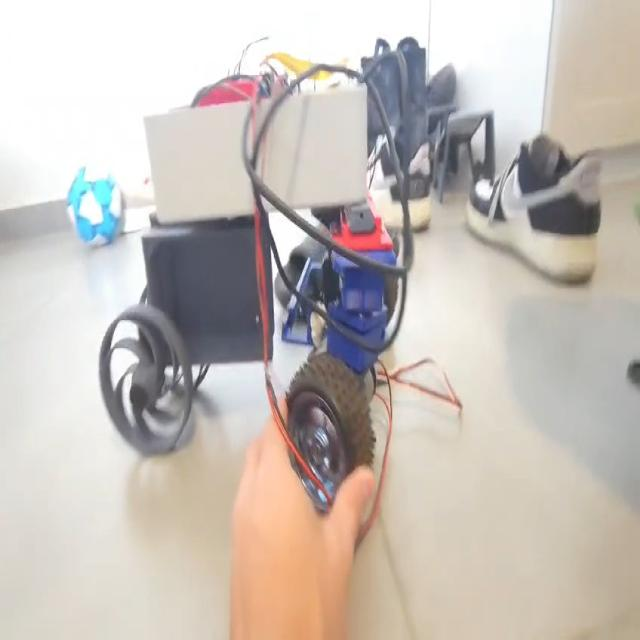Robot: (91, 33, 401, 518)
